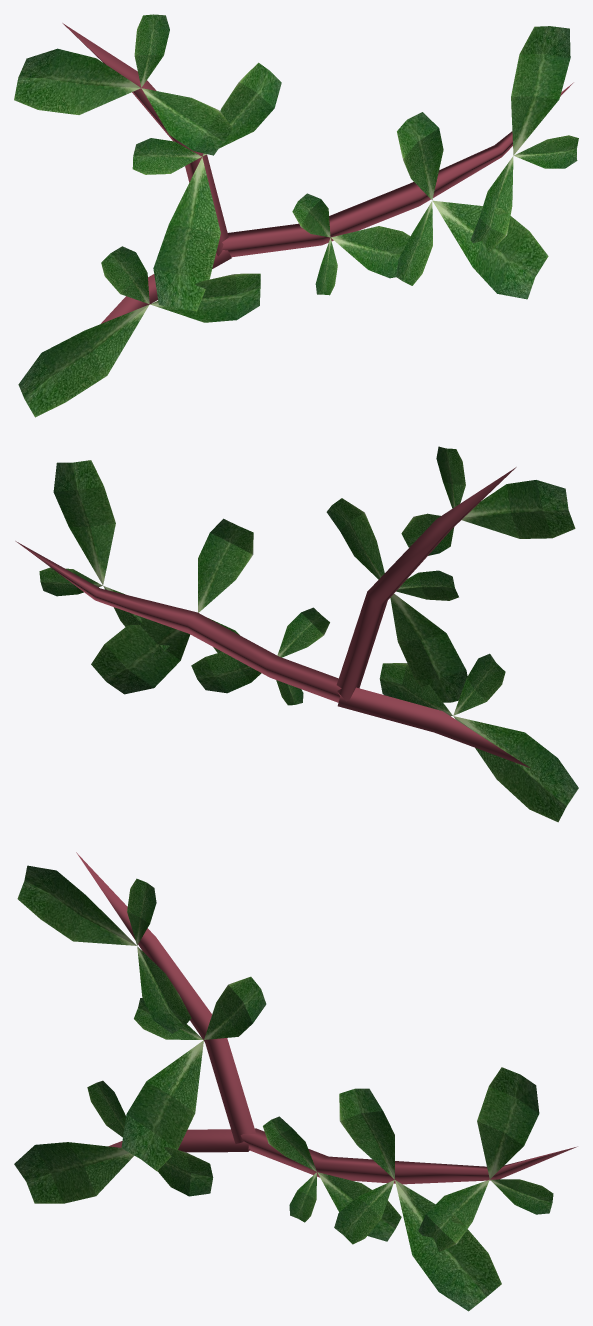
Rendered from portucala_05.obj.
3 renders of one model, top to bottom at view 1: azimuth 30°, elevation 25°; view 2: azimuth 150°, elevation 25°; view 3: azimuth 330°, elevation 25°, orthographic. The views are drawn at different scales.
Visible parts, largest first — view 1: portucala.004; view 2: portucala.004; view 3: portucala.004.
Part boxes in pixels (left/top/right/bottom): portucala.004: left=14, top=14, right=578, bottom=417; portucala.004: left=15, top=446, right=578, bottom=822; portucala.004: left=14, top=852, right=577, bottom=1311.
Size of the model in its own units: 0.1883 by 0.1175 by 0.0272.
